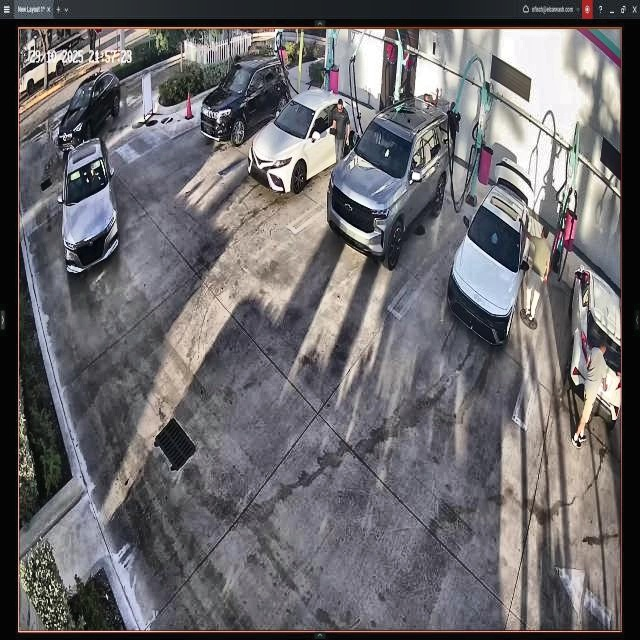Car: (328, 101, 450, 268), (449, 158, 536, 348), (249, 86, 345, 196), (202, 59, 288, 145)
